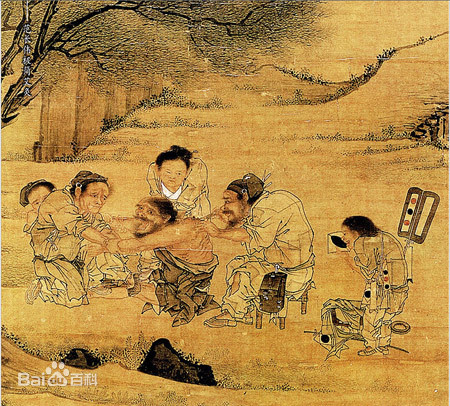man: (208, 171, 322, 332), (119, 203, 231, 330), (335, 211, 414, 355), (31, 168, 118, 297)
tree: (3, 1, 330, 124)
woman: (18, 181, 135, 289), (144, 139, 219, 233)
